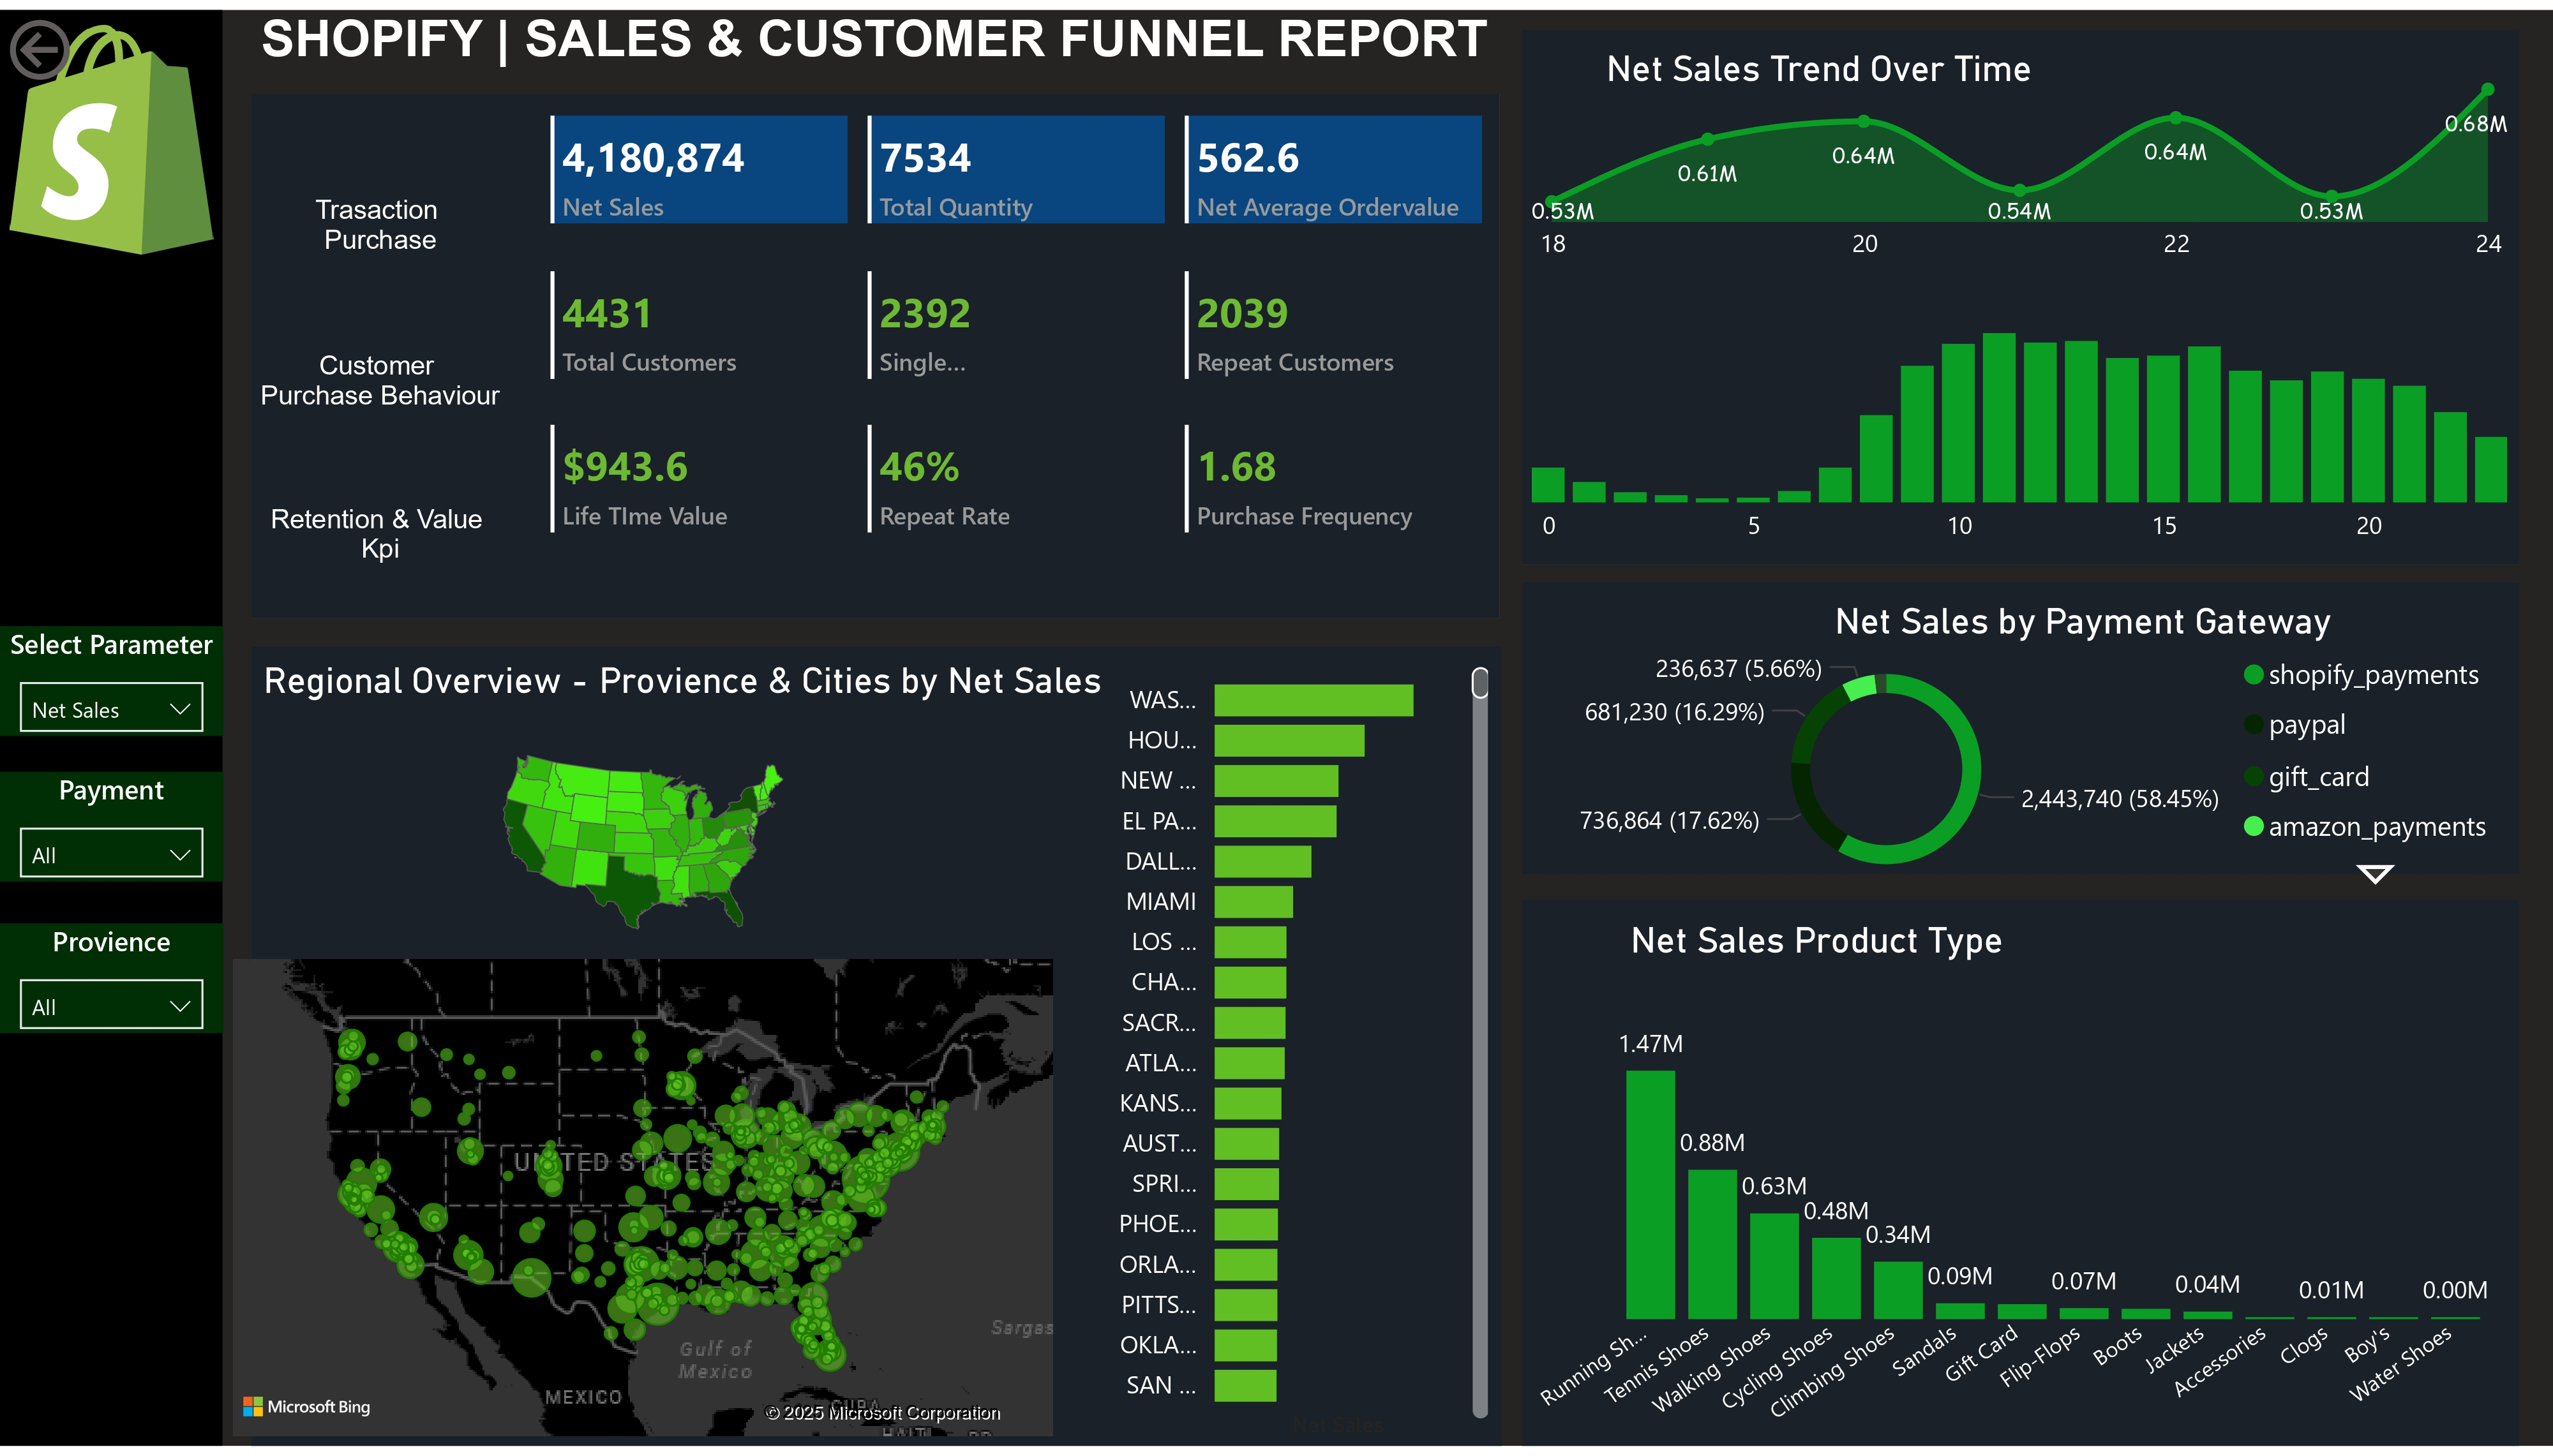

What the dashboard file says about the page in this screenshot:
{"tool":"powerbi","page":{"name":"Shopify  Analysis","canvas":[1280,720],"ordinal":0},"visuals":[{"type":"shape","box":[0,0,111.5,720.5],"z":0},{"type":"image","box":[0,0,111.5,130.8],"z":1000},{"type":"textbox","title":"SHOPIFY | SALES & CUSTOMER FUNNEL REPORT","box":[125.6,0,637.2,33.3],"z":2000},{"type":"shape","box":[125.6,42.3,625.6,262.8],"z":3000},{"type":"shape","box":[125.6,319.2,626.9,401.3],"z":4000},{"type":"shape","box":[762.8,10.3,500,267.9],"z":5000},{"type":"shape","box":[762.8,287.2,500,146.2],"z":6000},{"type":"shape","box":[762.8,446.2,500,274.4],"z":7000},{"type":"donutChart","fields":{"Y":["shopify_sales.Net Sales"],"Category":["shopify_sales.Gateway"]},"box":[762,315.3,499.4,131.3],"z":8000},{"type":"cardVisual","fields":{"Data":["shopify_sales.Net Sales","shopify_sales.Total Quantity","shopify_sales.Net Average Ordervalue"]},"box":[271.2,33.1,479.8,74.8],"z":9000},{"type":"card","fields":{"Values":["shopify_sales.Trasaction Pur"]},"box":[125.2,83.5,131.3,51.5],"z":10000},{"type":"cardVisual","fields":{"Data":["shopify_sales.Total Customers","shopify_sales.Single OrderedCustomers","shopify_sales.Repeat Customers"]},"box":[271.2,110.5,479.8,74.8],"z":11000},{"type":"card","fields":{"Values":["shopify_sales.Trancation Perf"]},"box":[125.2,160.8,131.3,51.5],"z":12000},{"type":"cardVisual","fields":{"Data":["shopify_sales.Life TIme Value","shopify_sales.Repeat Rate","shopify_sales.Purchase Frequency"]},"box":[271.4,187.9,479.8,74.8],"z":13000},{"type":"card","fields":{"Values":["shopify_sales.Retantoion"]},"box":[125.3,238.2,131.3,51.5],"z":14000},{"type":"shapeMap","fields":{"Category":["shopify_sales.Billing Address Province"],"Value":["shopify_sales.Net Sales"]},"box":[111.7,364.4,420.9,106.7],"z":15000},{"type":"map","fields":{"Category":["shopify_sales.Location"],"Size":["shopify_sales.Net Sales"]},"box":[111.7,471.2,420.9,249.1],"z":16000},{"type":"slicer","title":"Select Parameter","fields":{"Values":["Select Parameter.Select Parameter"]},"box":[0,309.2,111.7,55.2],"z":17000},{"type":"actionButton","box":[0,0,100,40],"z":18000},{"type":"clusteredBarChart","fields":{"Y":["shopify_sales.Net Sales"],"Category":["shopify_sales.CITY"]},"box":[543.6,319,207.4,401.2],"z":19000},{"type":"actionButton","box":[1.2,247.9,111.7,41.7],"z":22000},{"type":"card","fields":{"Values":["Select Parameter.Map Title"]},"box":[125.2,311.7,434.4,49.1],"z":23000},{"type":"areaChart","fields":{"Y":["shopify_sales.Net Sales"],"Category":["shopify_sales.Invoice Date.Variation.Date Hierarchy.Day"]},"box":[763.2,19.6,499.4,115.3],"z":24000},{"type":"columnChart","fields":{"Y":["shopify_sales.Net Sales"],"Category":["shopify_sales.Hour"]},"box":[763.2,126.4,499.4,150.9],"z":25000},{"type":"card","fields":{"Values":["Select Parameter.Trend Title"]},"box":[763.2,9.8,298.2,39.3],"z":26000},{"type":"card","fields":{"Values":["Select Parameter.Gateway Title"]},"box":[877.3,287.1,335,39.3],"z":27000},{"type":"columnChart","fields":{"Y":["shopify_sales.Net Sales"],"Category":["shopify_sales.Product Type"]},"box":[763.2,490.8,498.2,229.4],"z":28000},{"type":"card","fields":{"Values":["Select Parameter.Product Title"]},"box":[762,446.6,298.2,39.3],"z":29000},{"type":"slicer","title":"Payment","fields":{"Values":["shopify_sales.Gateway"]},"box":[0,381.6,111.7,55.2],"z":30000},{"type":"slicer","title":"Provience","fields":{"Values":["shopify_sales.Billing Address Province"]},"box":[0,457.7,111.7,55.2],"z":31000}]}

Visuals, with their boxes in screenshot pixels (x1, y1, x2, y2), scaled from the page's 1280x720 canvas onto the 2553x1456 screenshot:
shape: [x1=0, y1=0, x2=222, y2=1455]
image: [x1=0, y1=0, x2=222, y2=265]
"SHOPIFY | SALES & CUSTOMER FUNNEL REPORT" textbox: [x1=250, y1=0, x2=1522, y2=68]
shape: [x1=250, y1=85, x2=1499, y2=617]
shape: [x1=250, y1=646, x2=1501, y2=1455]
shape: [x1=1522, y1=21, x2=2519, y2=563]
shape: [x1=1522, y1=581, x2=2519, y2=877]
shape: [x1=1522, y1=902, x2=2519, y2=1455]
donutChart - shopify_sales.Net Sales x shopify_sales.Gateway: [x1=1520, y1=637, x2=2516, y2=903]
cardVisual - shopify_sales.Net Sales x shopify_sales.Total Quantity: [x1=541, y1=67, x2=1498, y2=218]
card - shopify_sales.Trasaction Pur: [x1=250, y1=169, x2=512, y2=273]
cardVisual - shopify_sales.Total Customers x shopify_sales.Single OrderedCustomers: [x1=541, y1=223, x2=1498, y2=375]
card - shopify_sales.Trancation Perf: [x1=250, y1=325, x2=512, y2=429]
cardVisual - shopify_sales.Life TIme Value x shopify_sales.Repeat Rate: [x1=541, y1=380, x2=1499, y2=531]
card - shopify_sales.Retantoion: [x1=250, y1=482, x2=512, y2=586]
shapeMap - shopify_sales.Billing Address Province x shopify_sales.Net Sales: [x1=223, y1=737, x2=1062, y2=953]
map - shopify_sales.Location x shopify_sales.Net Sales: [x1=223, y1=953, x2=1062, y2=1455]
"Select Parameter" slicer: [x1=0, y1=625, x2=223, y2=737]
actionButton: [x1=0, y1=0, x2=199, y2=81]
clusteredBarChart - shopify_sales.Net Sales x shopify_sales.CITY: [x1=1084, y1=645, x2=1498, y2=1455]
actionButton: [x1=3, y1=501, x2=225, y2=586]
card - Select Parameter.Map Title: [x1=250, y1=630, x2=1116, y2=730]
areaChart - shopify_sales.Net Sales x shopify_sales.Invoice Date.Variation.Date Hierarchy.Day: [x1=1522, y1=40, x2=2519, y2=273]
columnChart - shopify_sales.Net Sales x shopify_sales.Hour: [x1=1522, y1=256, x2=2519, y2=561]
card - Select Parameter.Trend Title: [x1=1522, y1=20, x2=2117, y2=100]
card - Select Parameter.Gateway Title: [x1=1750, y1=581, x2=2418, y2=660]
columnChart - shopify_sales.Net Sales x shopify_sales.Product Type: [x1=1522, y1=993, x2=2516, y2=1455]
card - Select Parameter.Product Title: [x1=1520, y1=903, x2=2115, y2=983]
"Payment" slicer: [x1=0, y1=771, x2=223, y2=883]
"Provience" slicer: [x1=0, y1=926, x2=223, y2=1037]
